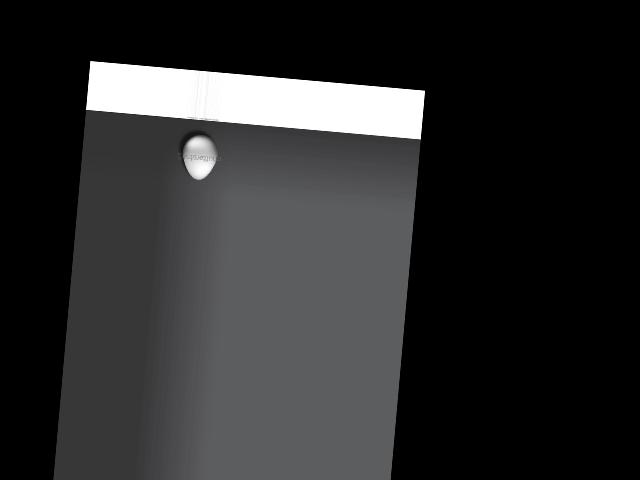egg: (180, 133, 218, 181)
